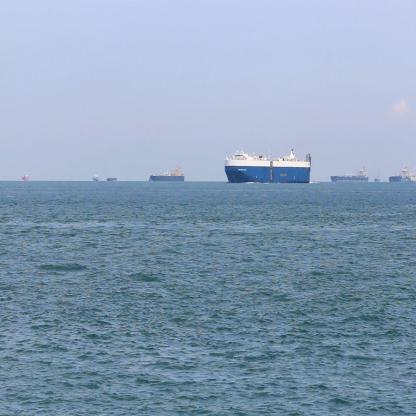Container Ship: (223, 152, 312, 184), (150, 164, 186, 183), (330, 167, 370, 182), (388, 164, 410, 188), (406, 168, 416, 185), (19, 170, 31, 184), (91, 171, 102, 185), (106, 176, 118, 184)
